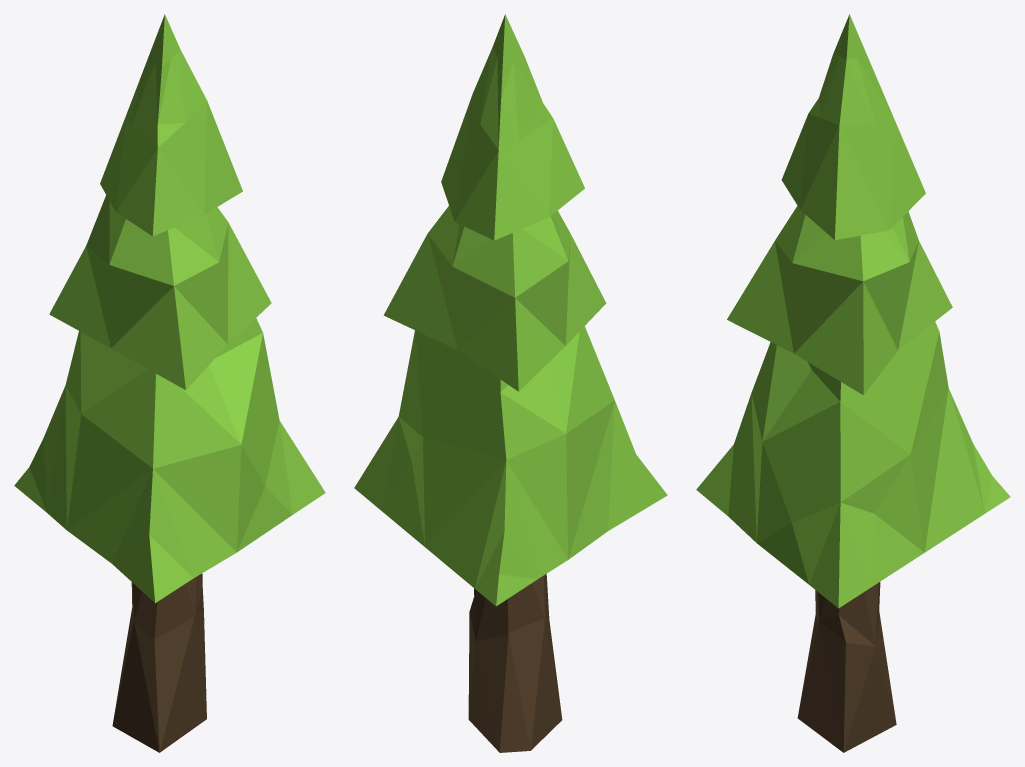
The model's file is Tree1.fbx.
3 views of the same model, side by side, from view 1: azimuth 30°, elevation 25°; view 2: azimuth 150°, elevation 25°; view 3: azimuth 270°, elevation 25° (orthographic).
Visible parts, largest first — view 1: Tree1; view 2: Tree1; view 3: Tree1.
Boxes of the visible parts, x1,y1,x2,y2 form: Tree1: (14, 14, 325, 752); Tree1: (354, 14, 667, 752); Tree1: (696, 14, 1010, 752).
Bounding box in the file's own units: 194 × 547 × 217.
